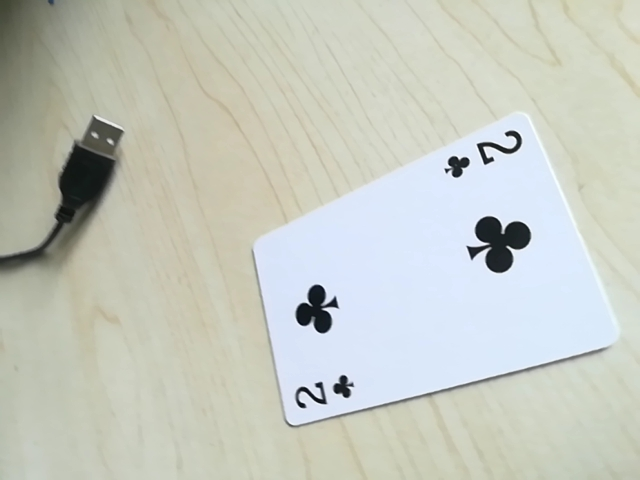mh 2: (438, 126, 534, 183), (289, 369, 360, 421)
